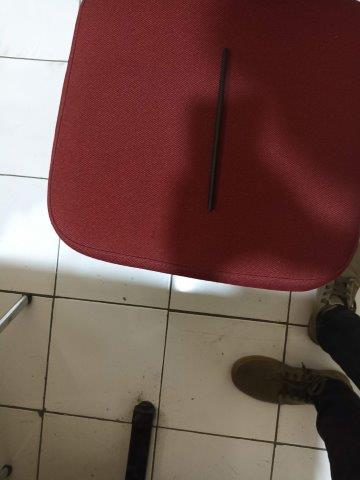sedotan: (208, 50, 229, 209)
